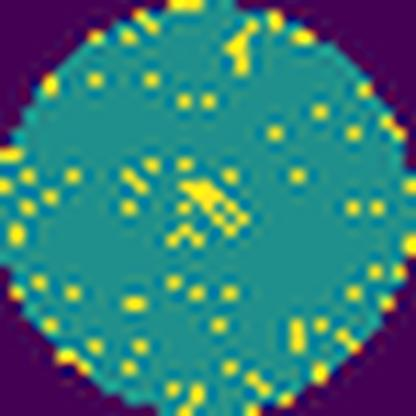Center: (172, 174, 250, 252)
